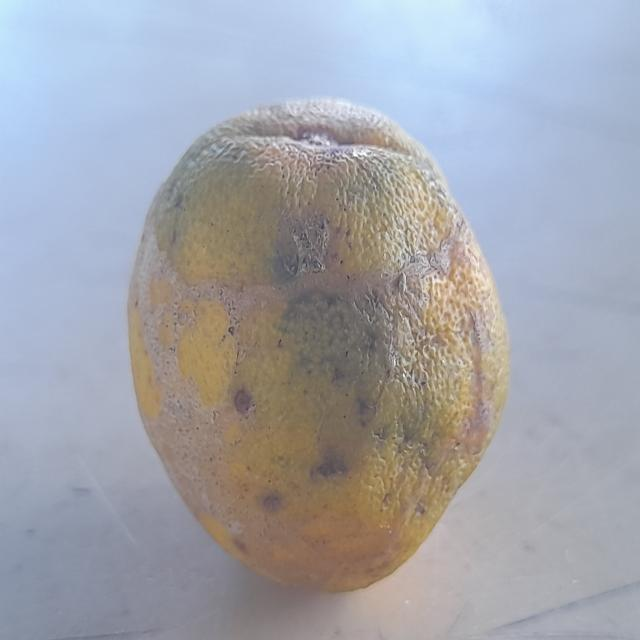black spot: (113, 98, 504, 592)
